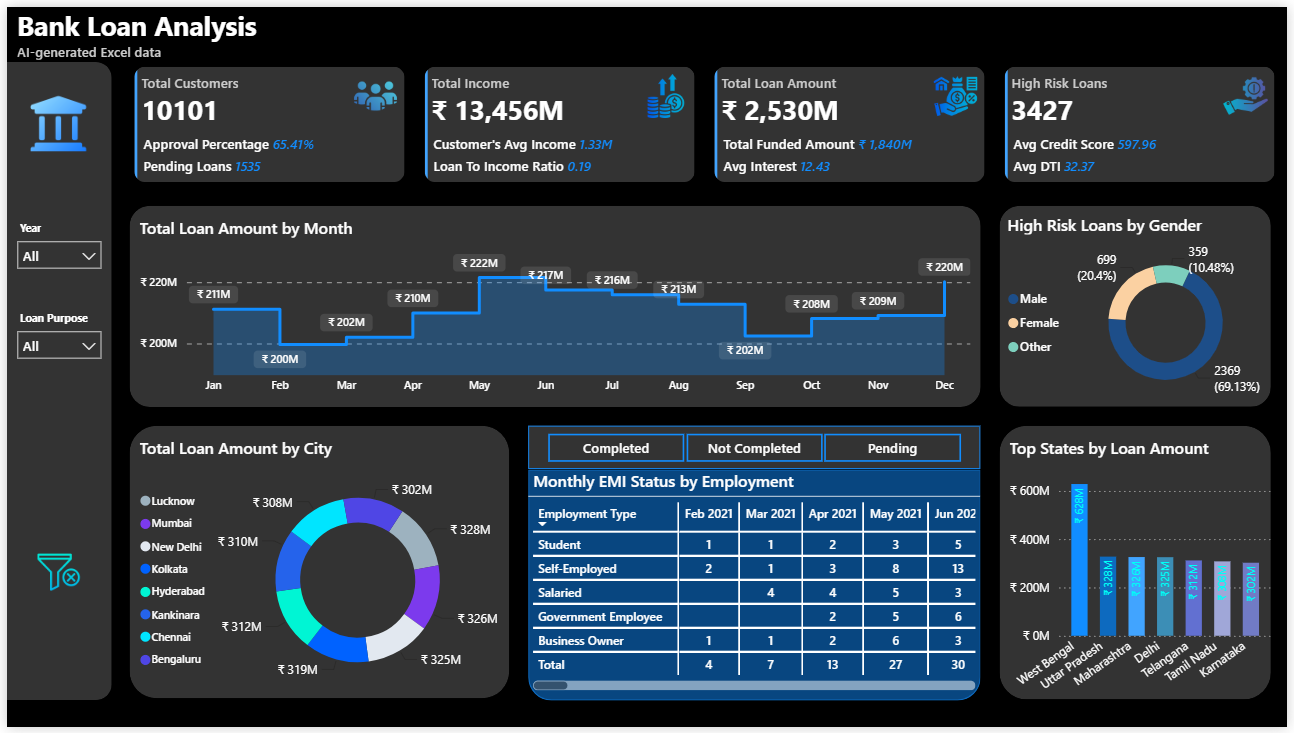

What the dashboard file says about the page in this screenshot:
{"tool":"powerbi","page":{"name":"Page 1","canvas":[1280,720],"ordinal":0},"visuals":[{"type":"shape","box":[0,54.8,104.8,638.1],"z":0},{"type":"shape","title":"Bank Loan Analysis","box":[0,0,692.9,54.8],"z":1000},{"type":"slicer","fields":{"Values":["Calendar.Year"]},"box":[0,208.3,104.8,60.7],"z":2000},{"type":"cardVisual","fields":{"Data":["BankLoanData.Total Customers","BankLoanData.Total Income","BankLoanData.Total Loan Amount","BankLoanData.High Risk Loans"]},"box":[117.5,55,1151.2,125],"z":3000},{"type":"shape","box":[122.5,198.8,851.2,201.2],"z":4000},{"type":"lineChart","fields":{"Y":["BankLoanData.Total Loan Amount"],"Category":["Calendar.Month"]},"box":[122.6,198.8,851.2,201.2],"z":5000},{"type":"shape","box":[992.9,198.8,271.4,201.2],"z":6000},{"type":"shape","box":[122.6,419,379.8,272.6],"z":7000},{"type":"slicer","fields":{"Values":["BankLoanData.Status"]},"box":[521.4,419,452.4,42.9],"z":8000},{"type":"shape","box":[521.4,461.9,452.4,231],"z":9000},{"type":"shape","box":[992.9,419,271.4,273.8],"z":10000},{"type":"pivotTable","title":"Monthly EMI Status by Employment","fields":{"Rows":["BankLoanData.Employment Type"],"Columns":["BankLoanData.Payment Month"],"Values":["BankLoanData.Total Loans"]},"box":[521.4,463.1,452.4,229.8],"z":11000},{"type":"donutChart","fields":{"Category":["BankLoanData.Gender"],"Y":["BankLoanData.High Risk Loans"]},"box":[992.9,198.8,271.4,201.2],"z":12000},{"type":"clusteredColumnChart","title":"Top States by Loan Amount","fields":{"Category":["BankLoanData.State"],"Y":["BankLoanData.Total Loan Amount"]},"box":[992.9,419,271.4,272.6],"z":13000},{"type":"pieChart","fields":{"Category":["BankLoanData.City"],"Y":["BankLoanData.Total Loan Amount"]},"box":[122.6,419,379.8,272.6],"z":14000},{"type":"slicer","fields":{"Values":["BankLoanData.Loan Purpose"]},"box":[0,298.8,104.8,60.7],"z":15000},{"type":"image","box":[15.5,88.1,72.6,58.3],"z":16000},{"type":"image","box":[21.4,540.5,60.7,50],"z":17000}]}

Visuals, with their boxes in screenshot pixels (x1, y1, x2, y2), scaled from the page's 1280x720 canvas onto the 1294x733 screenshot:
shape: <region>0, 56, 106, 705</region>
"Bank Loan Analysis" shape: <region>0, 0, 700, 56</region>
slicer - Calendar.Year: <region>0, 212, 106, 274</region>
cardVisual - BankLoanData.Total Customers x BankLoanData.Total Income: <region>119, 56, 1283, 183</region>
shape: <region>124, 202, 984, 407</region>
lineChart - BankLoanData.Total Loan Amount x Calendar.Month: <region>124, 202, 984, 407</region>
shape: <region>1004, 202, 1278, 407</region>
shape: <region>124, 427, 508, 704</region>
slicer - BankLoanData.Status: <region>527, 427, 984, 470</region>
shape: <region>527, 470, 984, 705</region>
shape: <region>1004, 427, 1278, 705</region>
"Monthly EMI Status by Employment" pivotTable: <region>527, 471, 984, 705</region>
donutChart - BankLoanData.Gender x BankLoanData.High Risk Loans: <region>1004, 202, 1278, 407</region>
"Top States by Loan Amount" clusteredColumnChart: <region>1004, 427, 1278, 704</region>
pieChart - BankLoanData.City x BankLoanData.Total Loan Amount: <region>124, 427, 508, 704</region>
slicer - BankLoanData.Loan Purpose: <region>0, 304, 106, 366</region>
image: <region>16, 90, 89, 149</region>
image: <region>22, 550, 83, 601</region>
